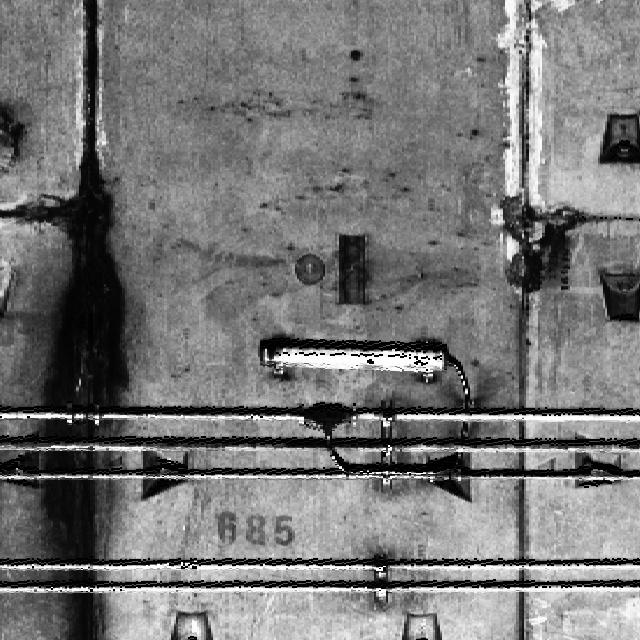leakage: (8, 0, 136, 637), (492, 16, 579, 301)
